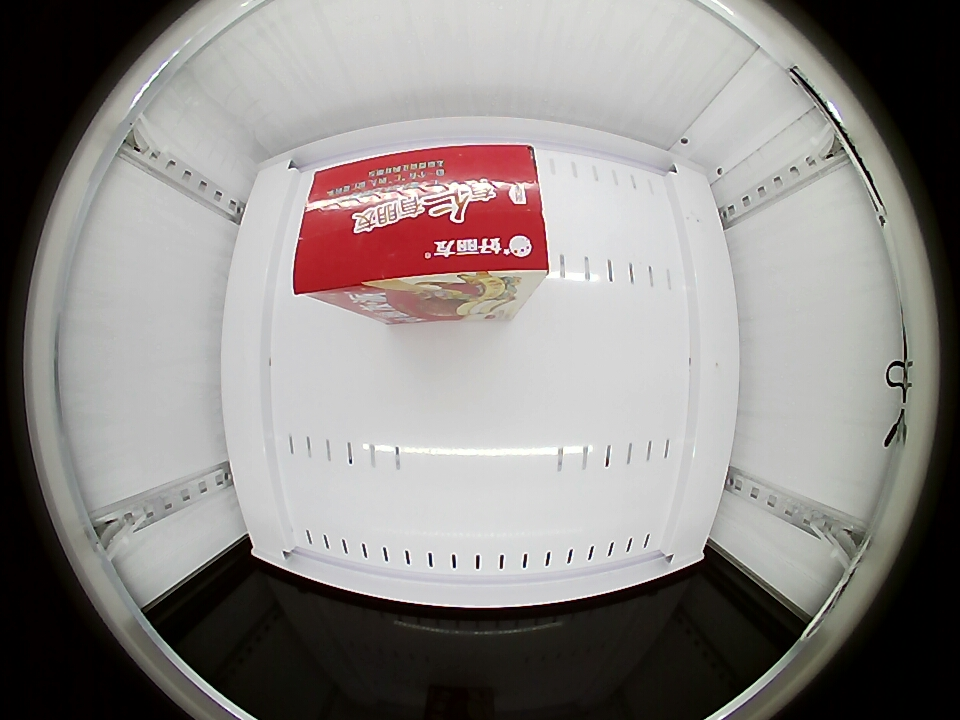haoliyou: (292, 144, 549, 316)
